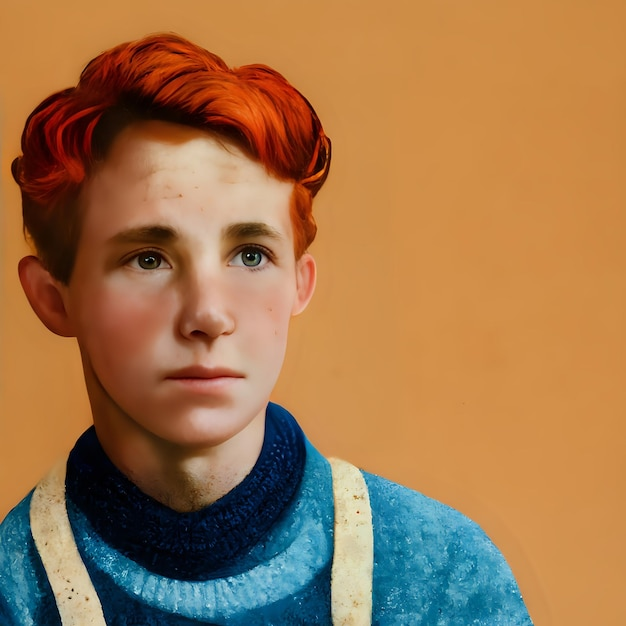teen: (12, 22, 360, 469)
